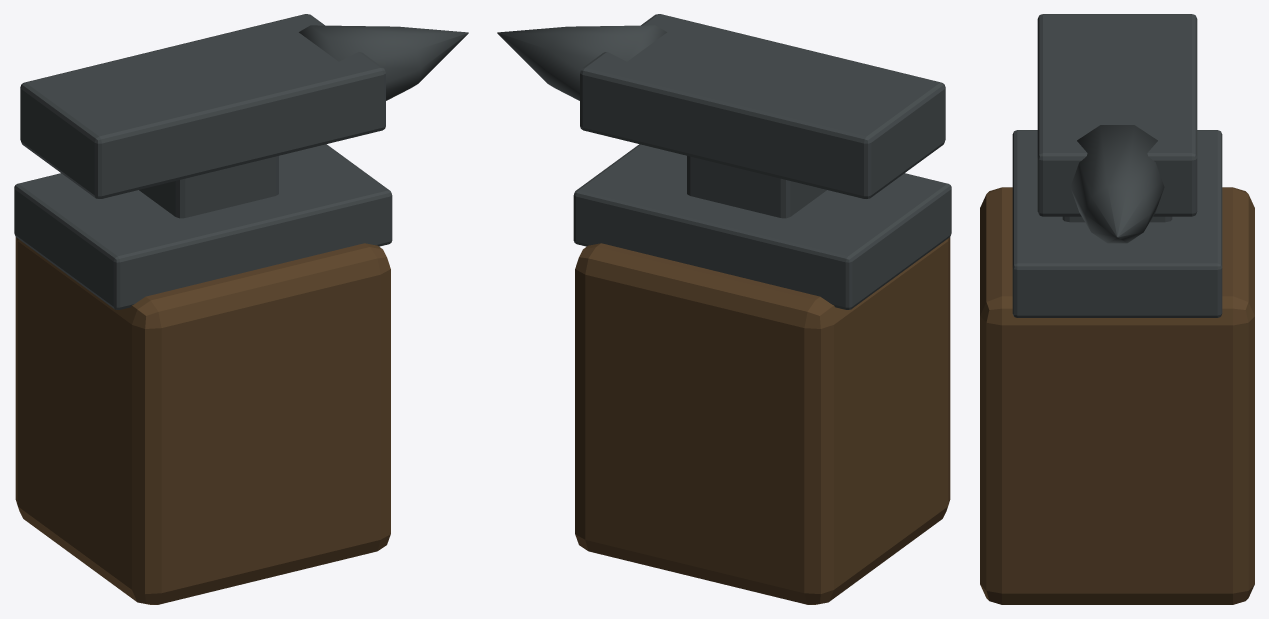
File: anvil.glb
The picture shows the model from 3 angles, left to right: view 1: azimuth 30°, elevation 25°; view 2: azimuth 150°, elevation 25°; view 3: azimuth 270°, elevation 25°; orthographic projection.
Parts seen in each view (by area): view 1: MV_anvil; view 2: MV_anvil; view 3: MV_anvil.
Boxes of the visible parts, bbox=[...] form: MV_anvil: bbox=[14, 14, 468, 604]; MV_anvil: bbox=[497, 14, 951, 604]; MV_anvil: bbox=[980, 14, 1254, 604].
Size of the model in its own units: 0.9289 by 1.03 by 0.5321.
